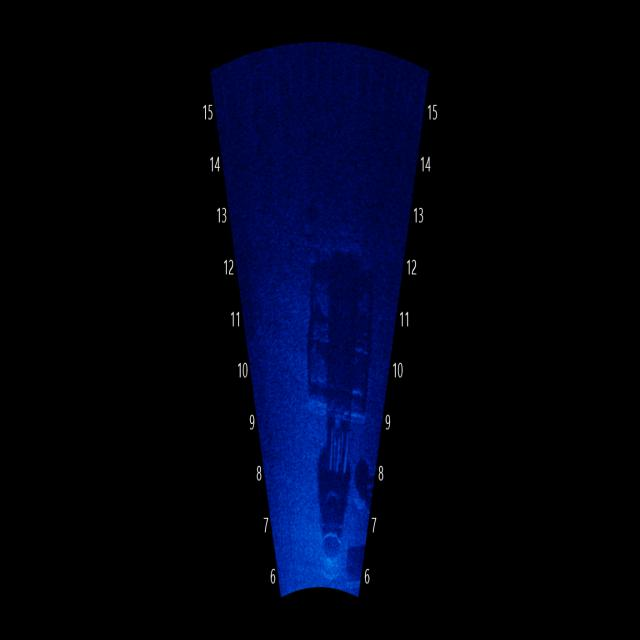circle: (308, 502, 348, 582)
square: (296, 235, 383, 425)
